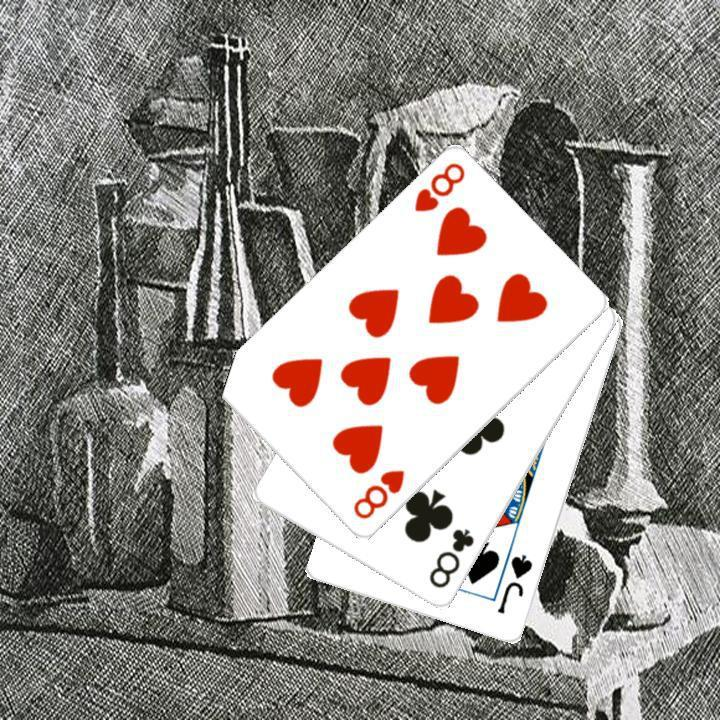8: (424, 525, 477, 591), (348, 466, 407, 522), (409, 159, 468, 215)
J: (493, 550, 535, 616)
